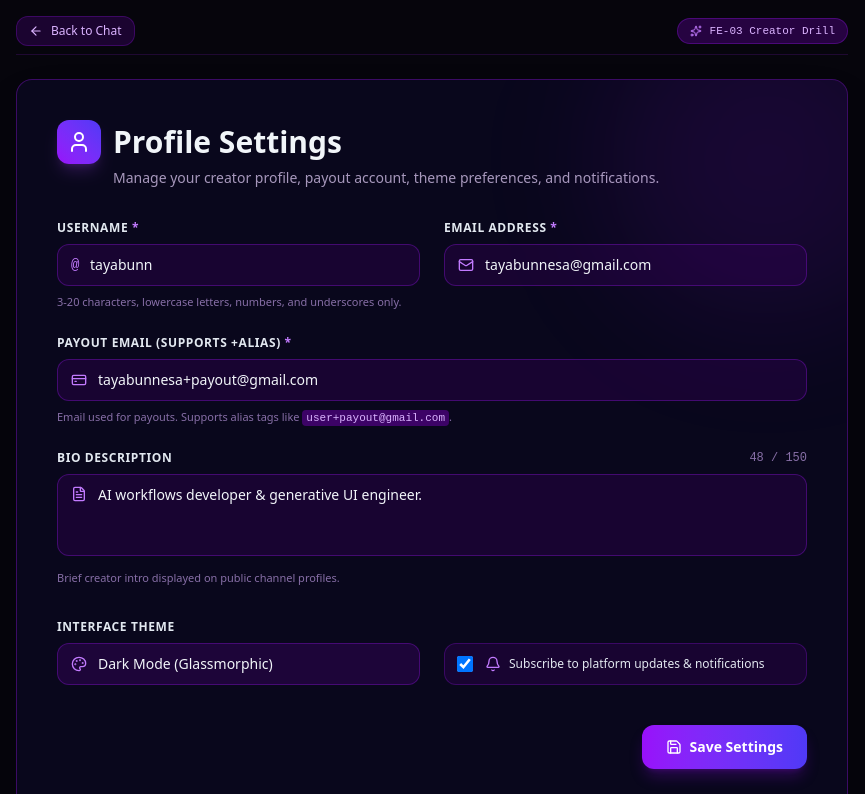
Test: UserProfileSettings Component › submits valid form successfully and saves to localStorage
Click the button "Save Settings": (724, 746) [642,724,807,768]
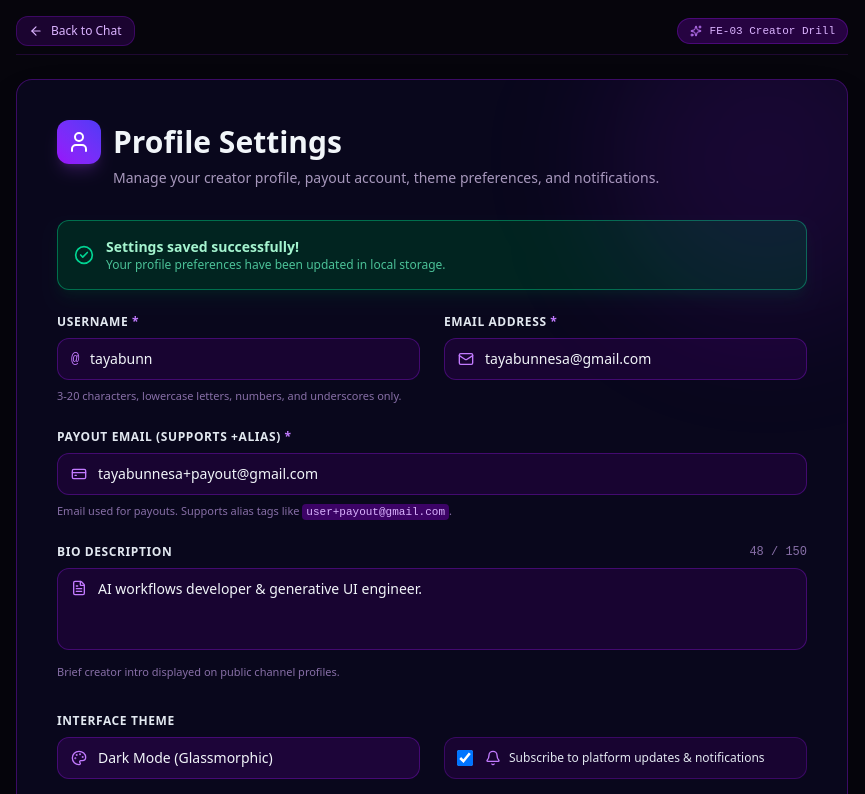
Result: the text "Settings saved successfully!" is shown at [106,237,299,256]
